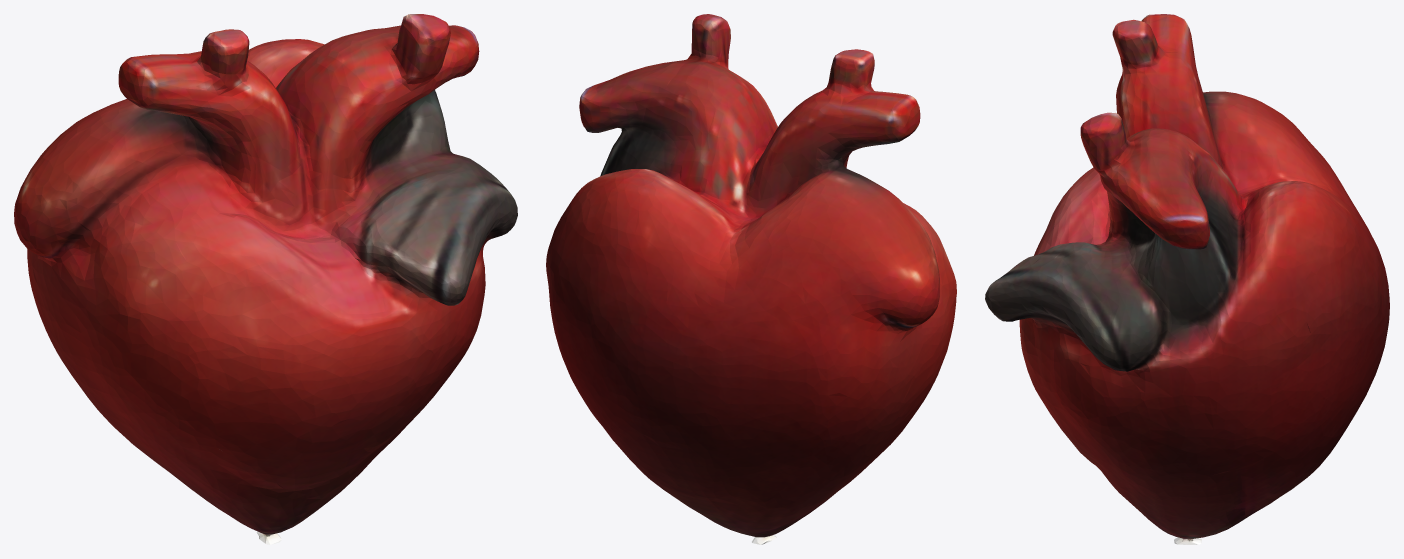
3 renders of one model, left to right at view 1: azimuth 30°, elevation 25°; view 2: azimuth 150°, elevation 25°; view 3: azimuth 270°, elevation 25°, orthographic. The views are drawn at different scales.
Parts seen in each view (by area): view 1: mesh.obj; view 2: mesh.obj; view 3: mesh.obj.
Part boxes in pixels (bbox=[...]): mesh.obj: bbox=[14, 14, 517, 544]; mesh.obj: bbox=[546, 14, 956, 544]; mesh.obj: bbox=[985, 14, 1389, 544].
Bounding box in the file's own units: 0.8424 × 1.03 × 0.7787.
Materials: 1 (1 with a texture image).
